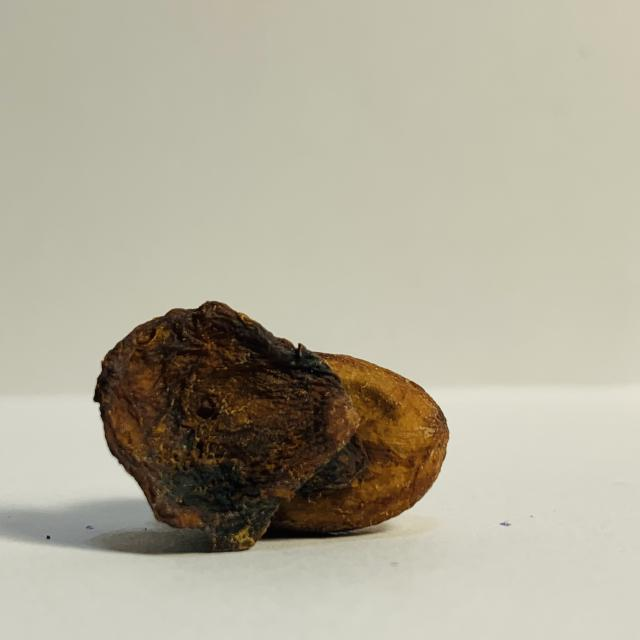Agglomerated_cocoabeans: (0, 282, 505, 571)
